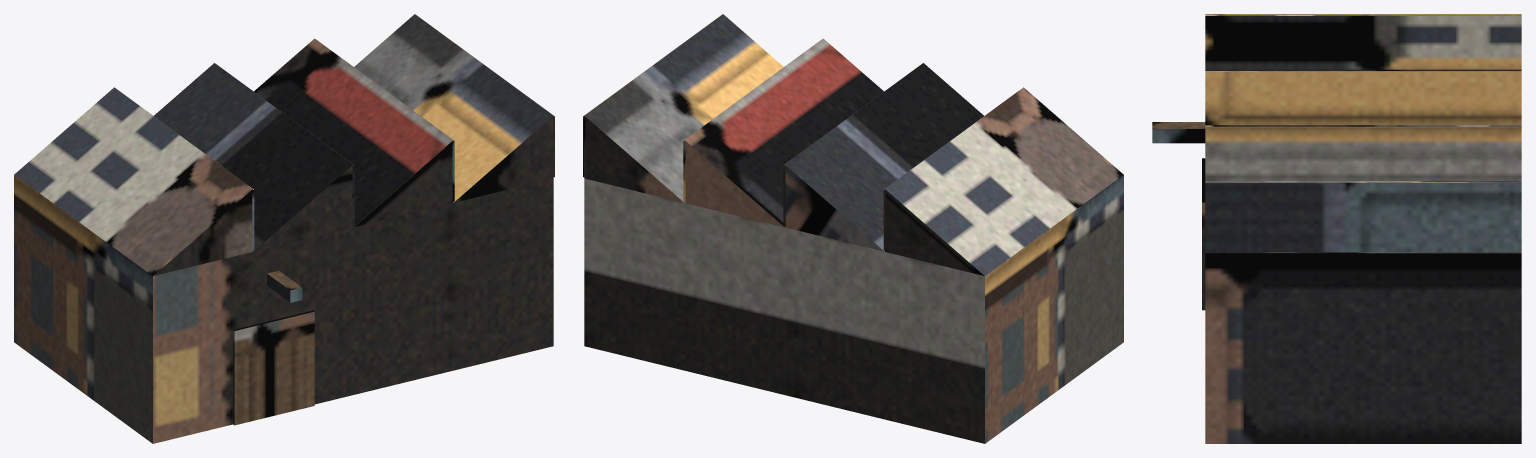
The model's file is SM_Warehouse.fbx.
3 views of the same model, side by side, from view 1: azimuth 30°, elevation 25°; view 2: azimuth 150°, elevation 25°; view 3: azimuth 270°, elevation 25° (orthographic). The views are drawn at different scales.
Visible parts, largest first — view 1: SM_Warehouse; view 2: SM_Warehouse; view 3: SM_Warehouse.
Part boxes in pixels (bbox=[...]): SM_Warehouse: bbox=[14, 14, 554, 443]; SM_Warehouse: bbox=[583, 14, 1123, 443]; SM_Warehouse: bbox=[1152, 14, 1521, 443].
Size of the model in its own units: 2006 by 1100 by 1400.
Materials: 1 (1 with a texture image).
